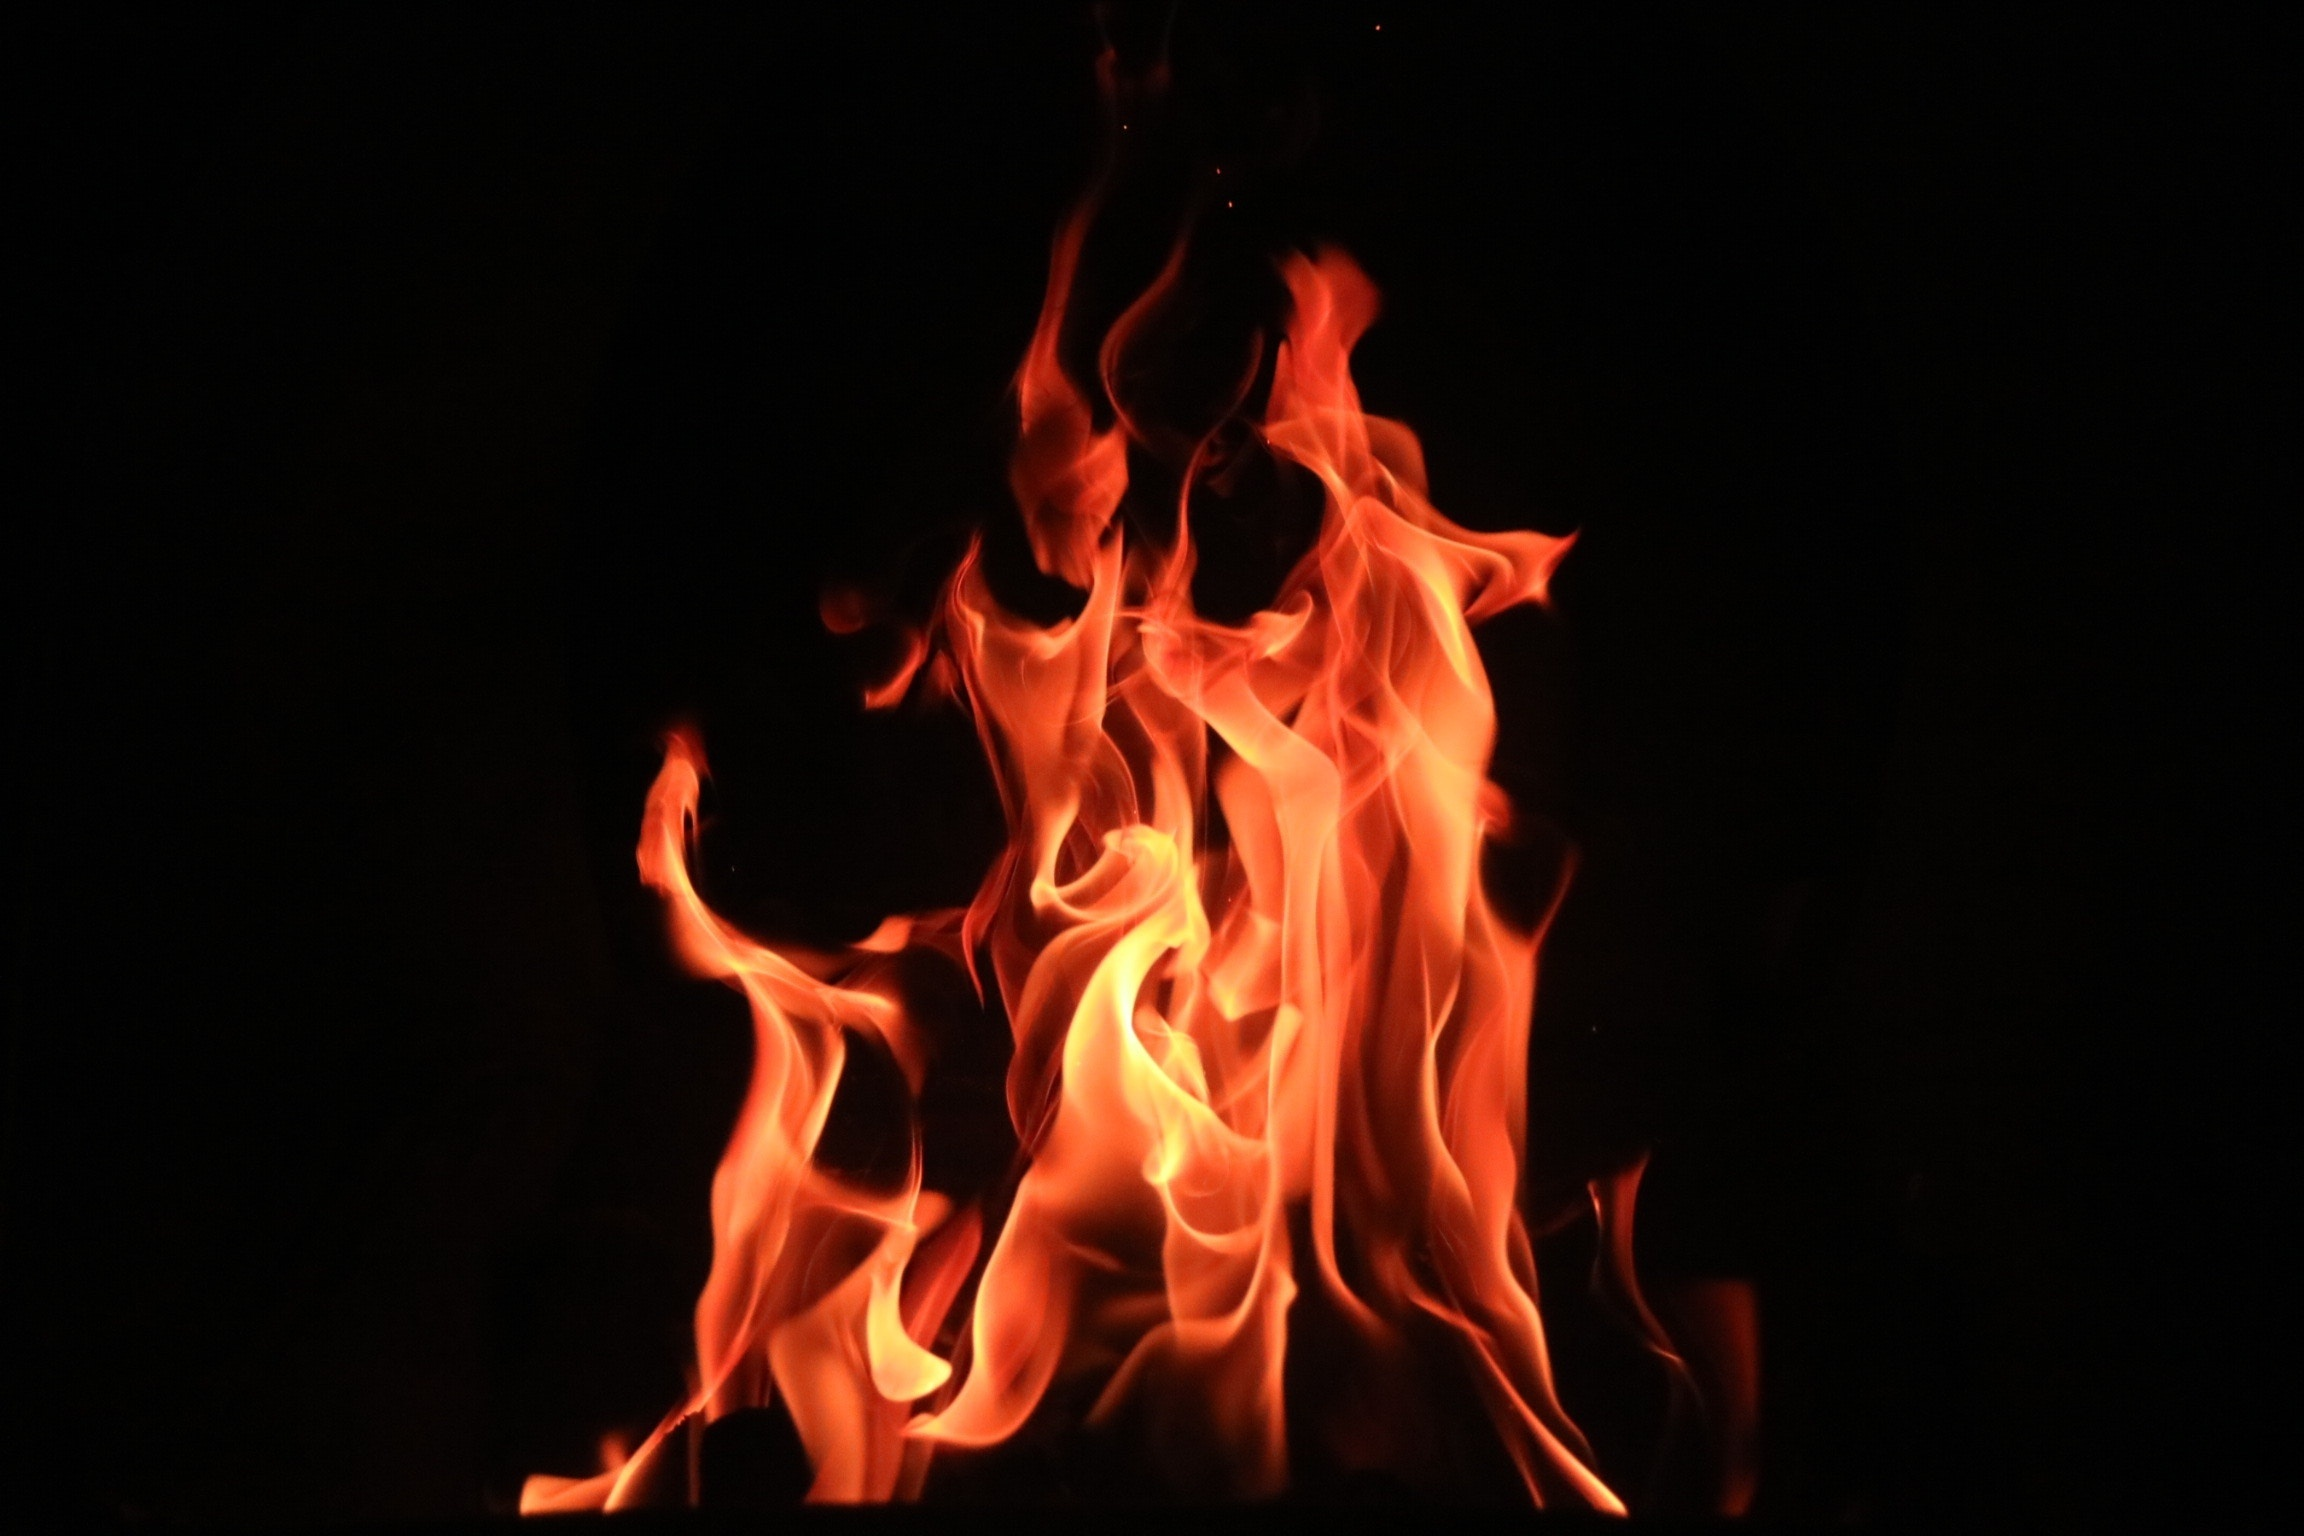fire: (549, 151, 1642, 1536)
